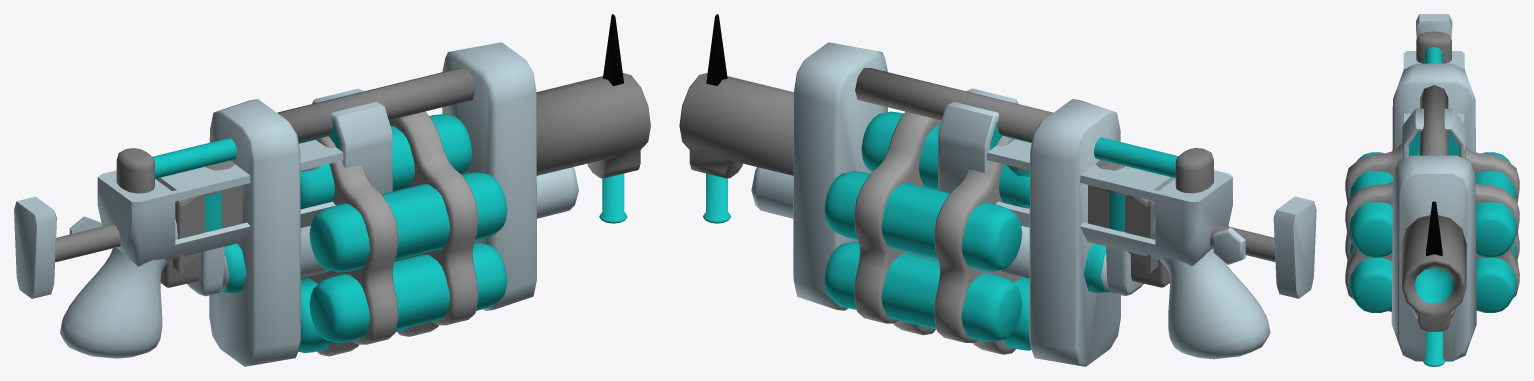
File: guns.fbx
The picture shows the model from 3 angles, left to right: view 1: azimuth 30°, elevation 25°; view 2: azimuth 150°, elevation 25°; view 3: azimuth 270°, elevation 25°; orthographic projection. The views are drawn at different scales.
Visible parts, largest first — view 1: Cube.001, Cylinder.015, Cylinder, Cylinder.005; view 2: Cube.001, Cylinder.015, Cylinder, Cylinder.005; view 3: Cube.001, Cylinder.015, Cylinder, Cylinder.005.
Boxes of the visible parts, left/top/right/bottom form: Cube.001: left=60, top=14, right=650, bottom=366; Cylinder.015: left=298, top=111, right=507, bottom=356; Cylinder: left=14, top=135, right=343, bottom=298; Cylinder.005: left=312, top=88, right=392, bottom=194; Cube.001: left=679, top=14, right=1270, bottom=366; Cylinder.015: left=824, top=111, right=1031, bottom=354; Cylinder: left=987, top=135, right=1316, bottom=298; Cylinder.005: left=938, top=88, right=1018, bottom=193; Cube.001: left=1391, top=63, right=1476, bottom=366; Cylinder.015: left=1345, top=143, right=1519, bottom=312; Cylinder: left=1403, top=14, right=1464, bottom=123; Cylinder.005: left=1402, top=108, right=1465, bottom=159.
Size of the model in its own units: 11.25 by 4.75 by 3.54.
